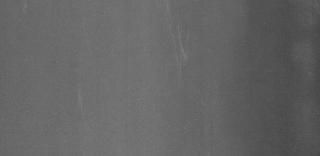silk spot: (168, 18, 198, 75)
